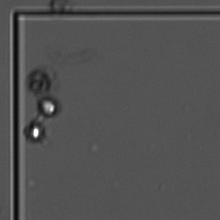Dead Cell: (25, 67, 55, 97)
Living Cell: (24, 119, 53, 148), (36, 96, 63, 123)
